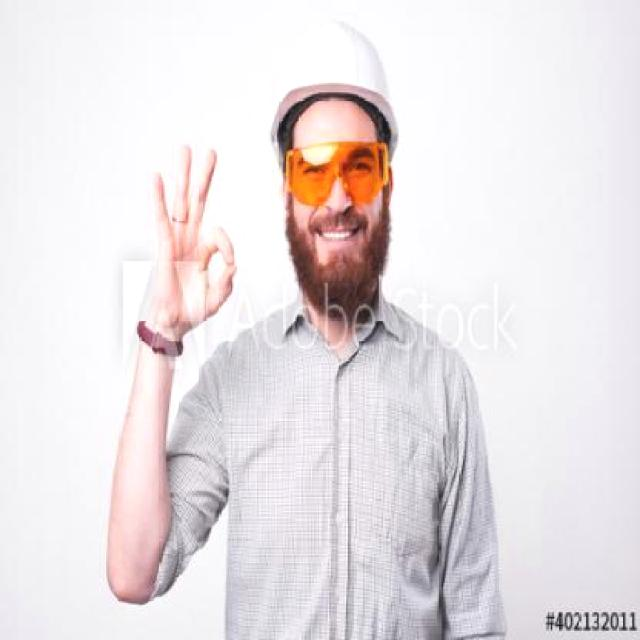face_nomask: (292, 150, 381, 256)
glasses: (280, 137, 391, 206)
hand_noglove: (132, 144, 243, 344)
head_helmet: (266, 18, 408, 140)
person: (118, 23, 494, 640)
